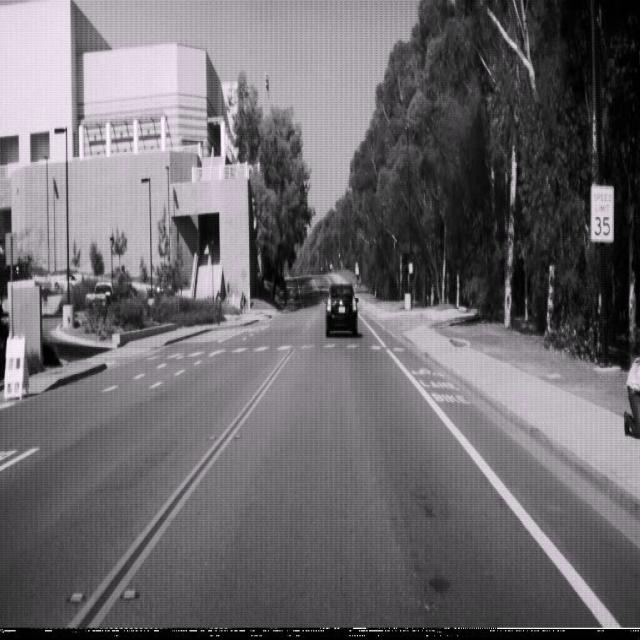speedLimit35: (590, 184, 614, 241)
